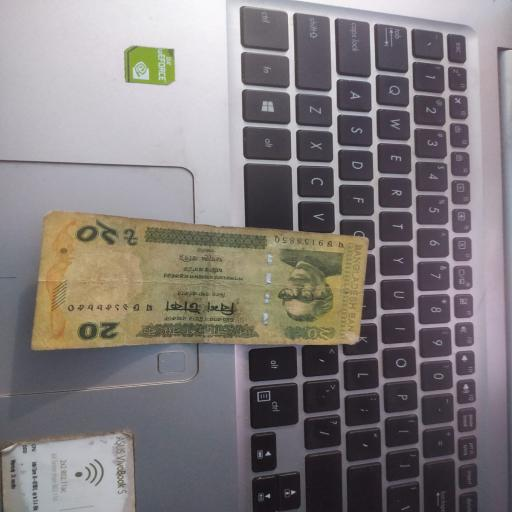20taka: (31, 212, 368, 350)
